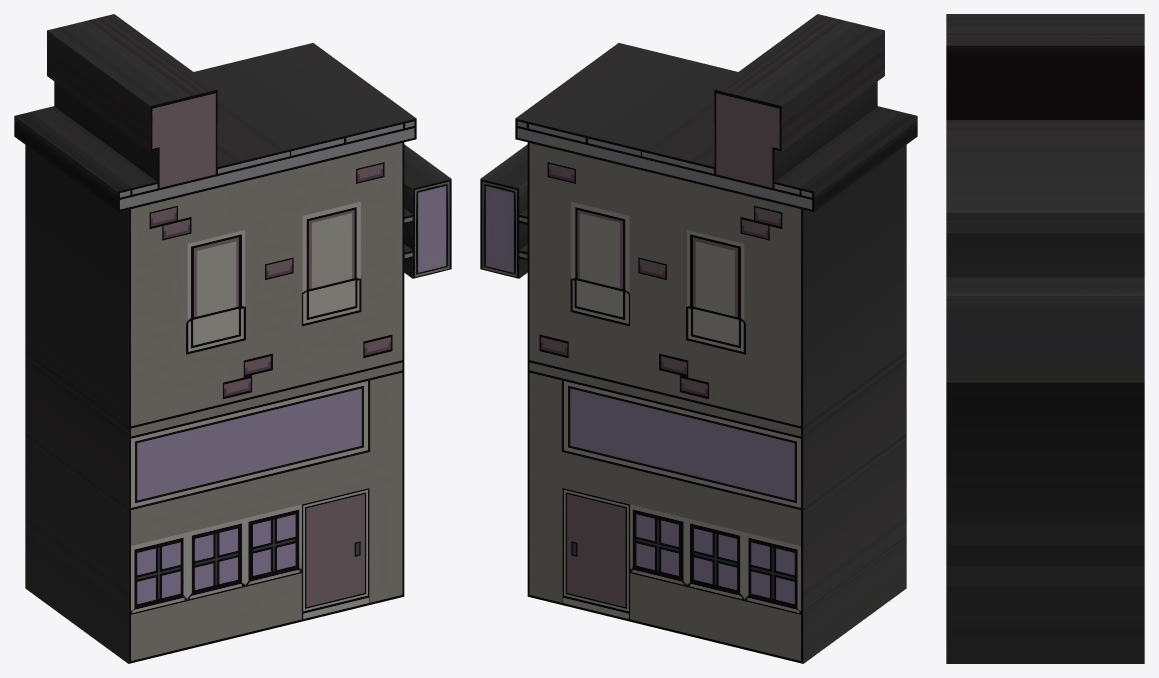
The model's file is building5.fbx.
3 views of the same model, side by side, from view 1: azimuth 30°, elevation 25°; view 2: azimuth 150°, elevation 25°; view 3: azimuth 270°, elevation 25° (orthographic). The views are drawn at different scales.
Parts seen in each view (by area): view 1: Plane.001; view 2: Plane.001; view 3: Plane.001.
Part boxes in pixels (bbox=[...]): Plane.001: bbox=[14, 14, 451, 663]; Plane.001: bbox=[480, 14, 917, 663]; Plane.001: bbox=[946, 14, 1144, 663].
Bounding box in the file's own units: 168 × 266 × 90.24.
